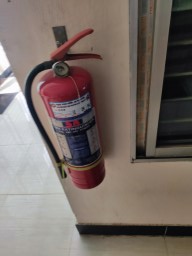fire_extinguisher: (20, 114, 143, 222), (46, 114, 142, 206)
